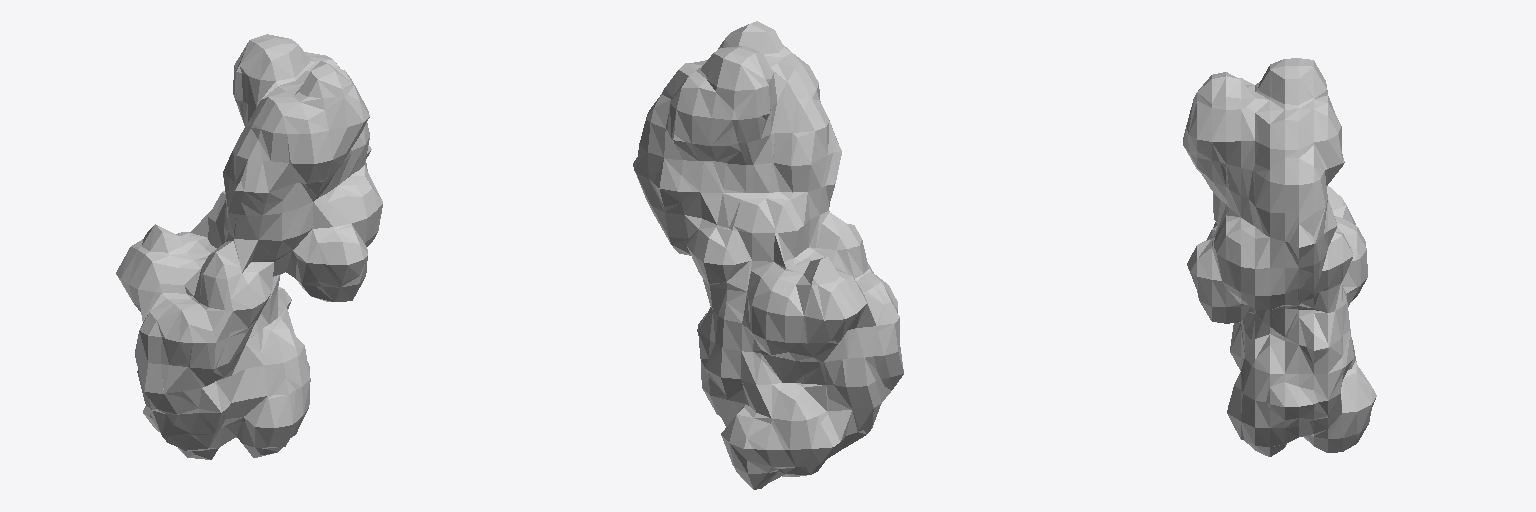
File: 1a49_cms.obj
3 renders of one model, left to right at view 1: azimuth 30°, elevation 25°; view 2: azimuth 150°, elevation 25°; view 3: azimuth 270°, elevation 25°, orthographic.
Size of the model in its own units: 157 by 244 by 105.